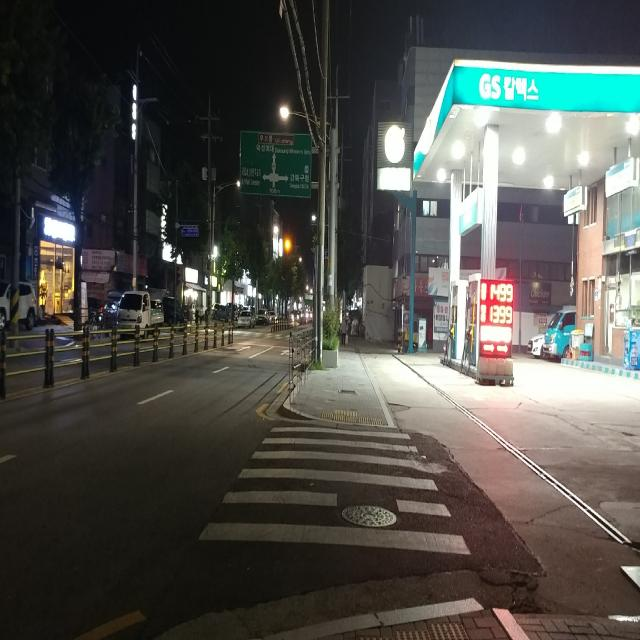횡단보도: (198, 427, 472, 555)
